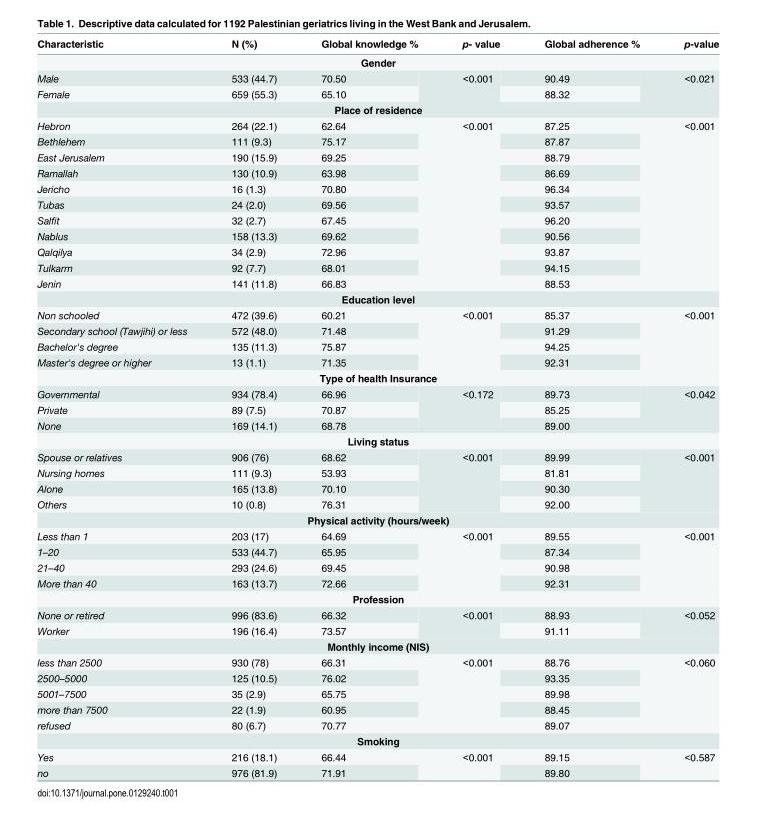table: (36, 36, 718, 778)
table column: (36, 36, 208, 778), (298, 36, 439, 778), (521, 36, 661, 778), (208, 36, 298, 778), (439, 36, 521, 778), (661, 36, 718, 778)
table column header: (36, 36, 718, 52)
table projected row header: (36, 52, 718, 69), (36, 101, 718, 117), (36, 290, 718, 306), (36, 369, 718, 385), (36, 511, 718, 527), (36, 590, 718, 606), (36, 732, 718, 748), (36, 433, 718, 448), (36, 638, 718, 653)
table row: (36, 52, 718, 69), (36, 36, 718, 52), (36, 69, 718, 85), (36, 85, 718, 101), (36, 101, 718, 117), (36, 117, 718, 133), (36, 133, 718, 149), (36, 164, 718, 180), (36, 180, 718, 196), (36, 196, 718, 212), (36, 227, 718, 243), (36, 243, 718, 259), (36, 259, 718, 275), (36, 290, 718, 306), (36, 306, 718, 322), (36, 322, 718, 338), (36, 338, 718, 354), (36, 369, 718, 385), (36, 385, 718, 401), (36, 401, 718, 417), (36, 417, 718, 433), (36, 448, 718, 464), (36, 464, 718, 480), (36, 480, 718, 496), (36, 511, 718, 527), (36, 527, 718, 543), (36, 543, 718, 559), (36, 559, 718, 575), (36, 590, 718, 606), (36, 606, 718, 622), (36, 622, 718, 638), (36, 653, 718, 669), (36, 669, 718, 685), (36, 685, 718, 701), (36, 701, 718, 717), (36, 732, 718, 748), (36, 748, 718, 764), (36, 149, 718, 164), (36, 212, 718, 227), (36, 275, 718, 290), (36, 354, 718, 369), (36, 433, 718, 448), (36, 496, 718, 511), (36, 575, 718, 590), (36, 638, 718, 653), (36, 717, 718, 732), (36, 764, 718, 778)
table spanning cell: (439, 117, 521, 290), (661, 117, 718, 290), (439, 653, 521, 732), (439, 306, 521, 369), (439, 448, 521, 511), (439, 527, 521, 590), (661, 653, 718, 732), (439, 385, 521, 433), (661, 306, 718, 369), (661, 448, 718, 511), (661, 527, 718, 590), (661, 385, 718, 433), (439, 69, 521, 101), (439, 606, 521, 638), (439, 748, 521, 778), (661, 69, 718, 101), (661, 606, 718, 638), (661, 748, 718, 778)
